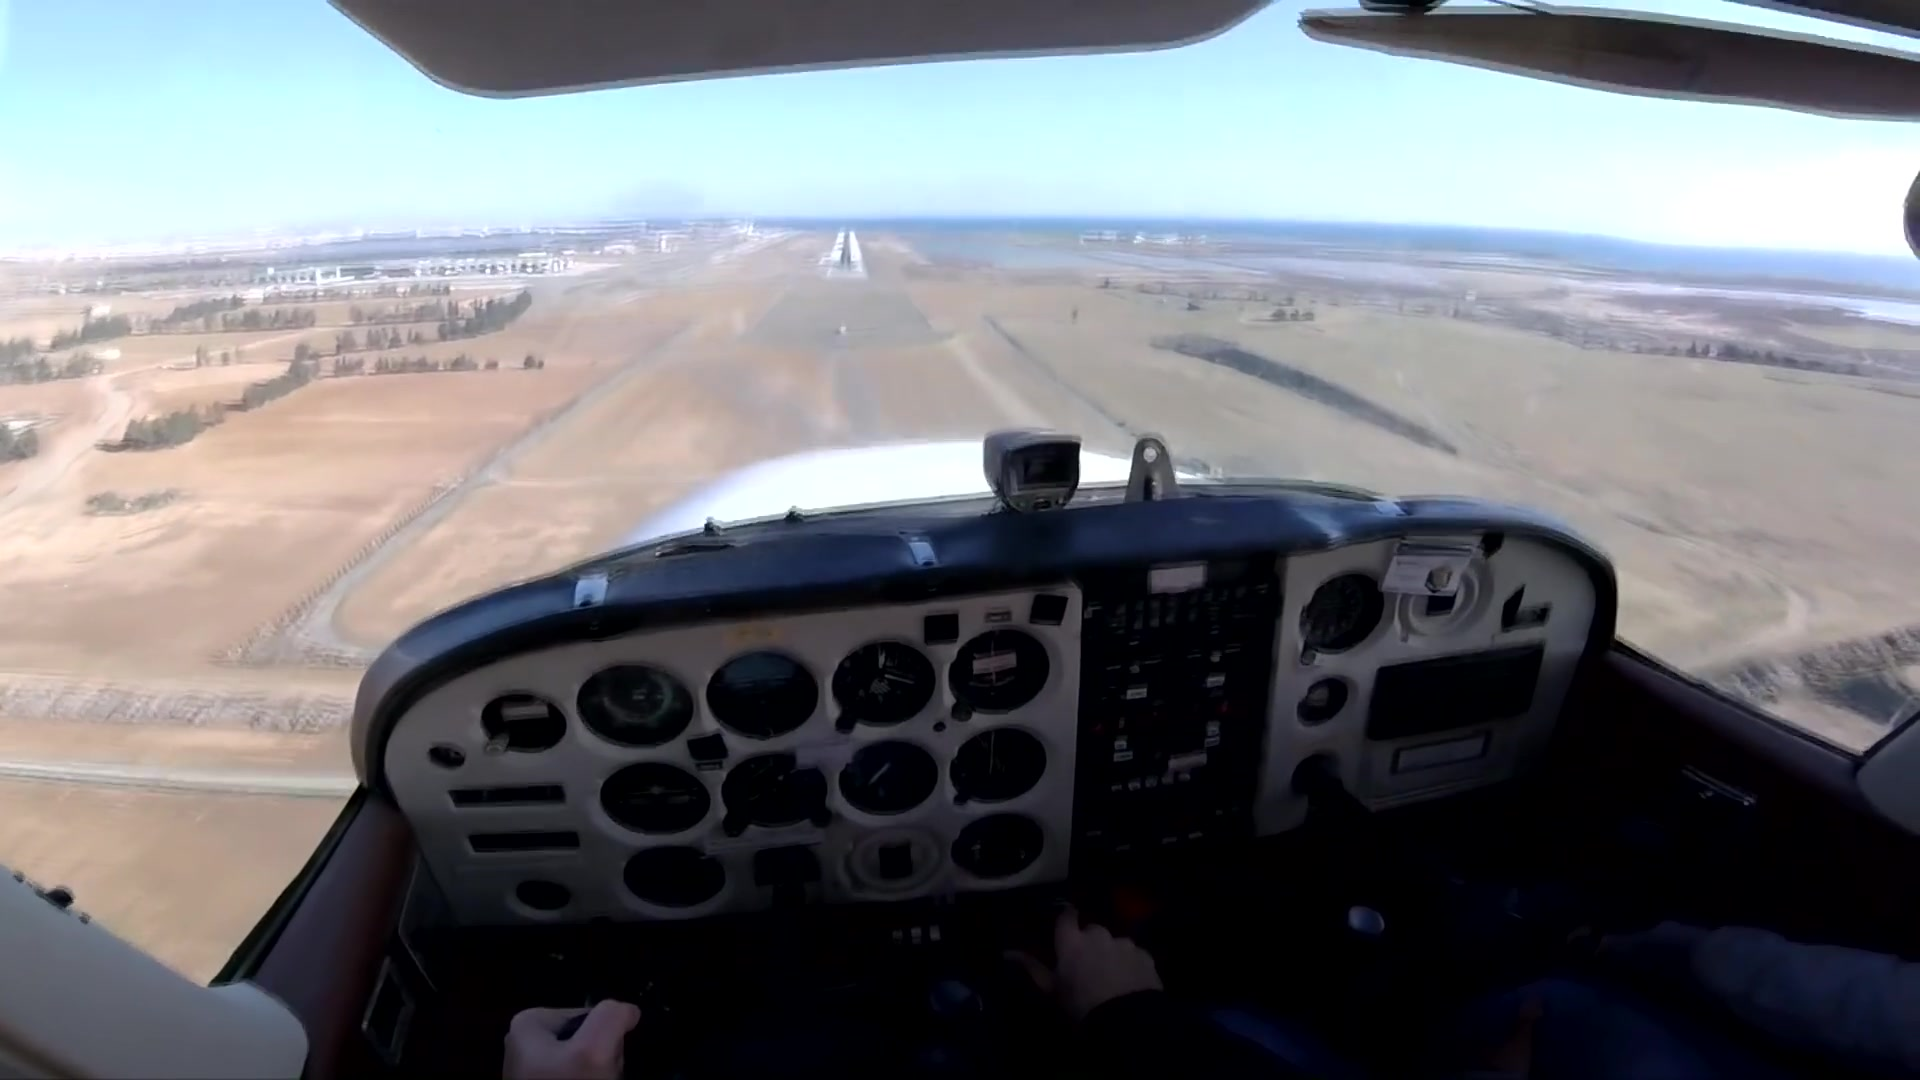runway: (832, 233, 872, 280)
